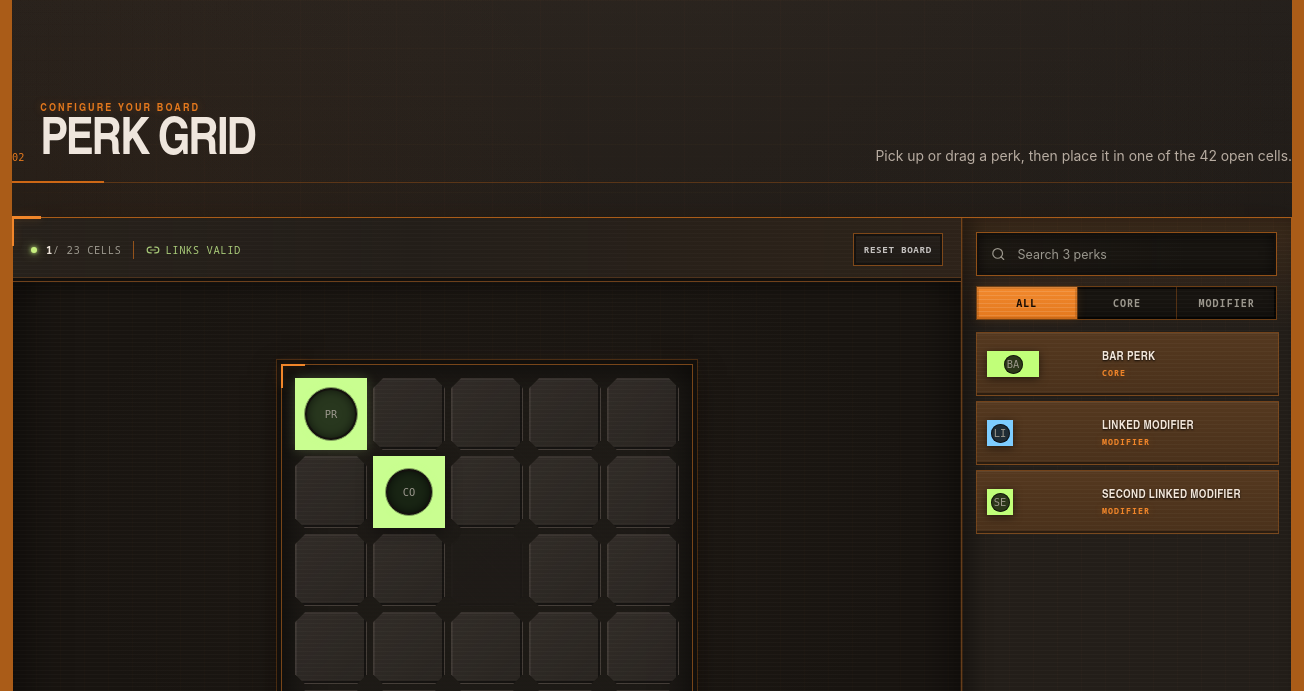
Scenario: PerkWorkbench grid presentation › highlights the union of cells used by every legal position and orientation
What coordinates should you click on to do the following:
click the button with aria-label "Pick up Bar Perk for placement"
I would click on:
 (1128, 364)
Its box is [976, 332, 1279, 396].
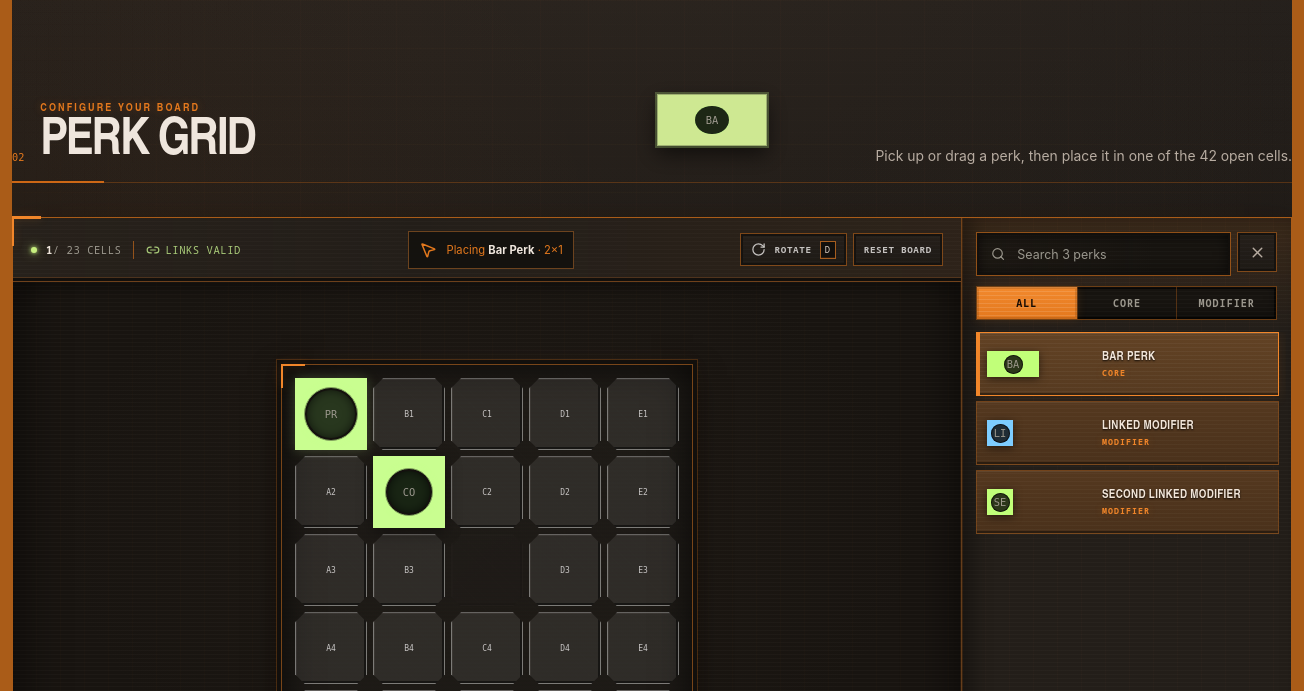
Check: the number of buttons with class "is-legal-footprint" is 22
